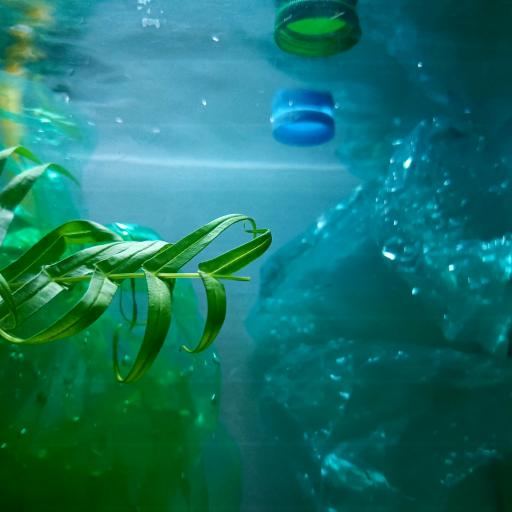bottle_cap: (272, 0, 362, 58), (269, 110, 335, 144)
plastic_bag: (245, 108, 512, 508), (0, 70, 228, 512)
